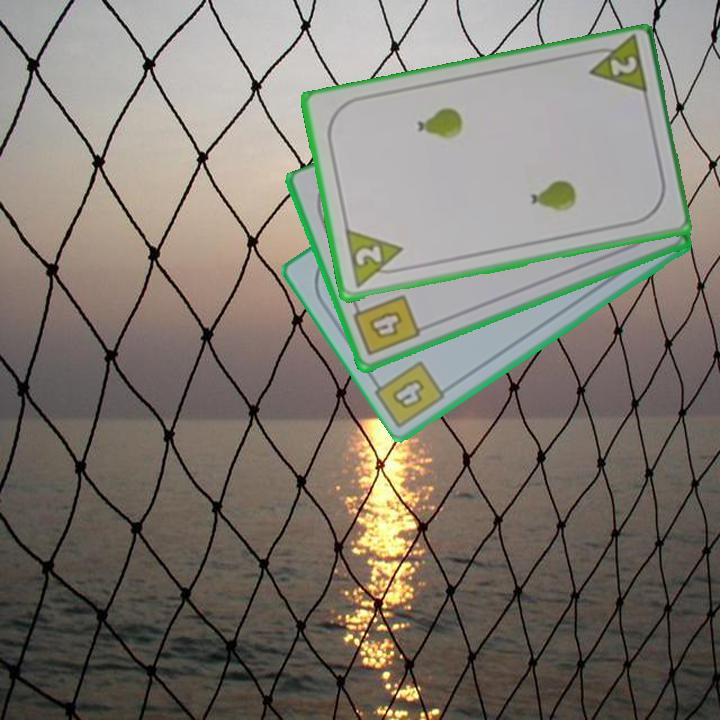2p: (581, 35, 650, 100), (341, 227, 409, 292)
4b: (349, 291, 423, 359), (387, 375, 427, 413)
